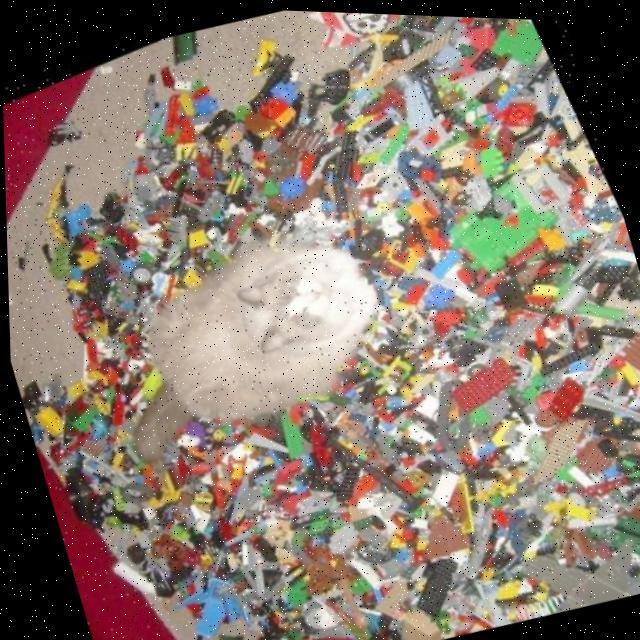Cats: (42, 181, 436, 509)
